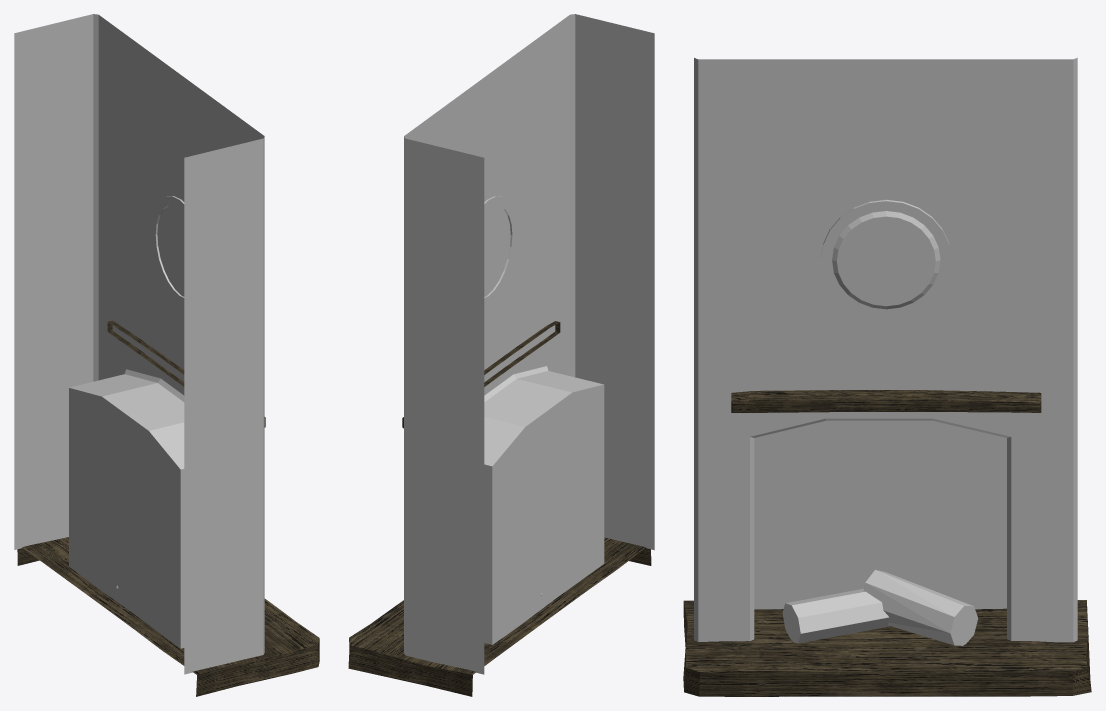
The model's file is P_Fireplace.fbx.
3 renders of one model, left to right at view 1: azimuth 30°, elevation 25°; view 2: azimuth 150°, elevation 25°; view 3: azimuth 270°, elevation 25°, orthographic. The views are drawn at different scales.
Parts seen in each view (by area): view 1: Empty_Mesh; view 2: Empty_Mesh; view 3: Empty_Mesh.
Boxes of the visible parts, <box> form: Empty_Mesh: <box>14,14,319,696</box>; Empty_Mesh: <box>348,14,654,696</box>; Empty_Mesh: <box>683,57,1091,696</box>.
Size of the model in its own units: 0.831 by 3.08 by 1.88.
